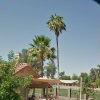Palm tree: (27, 12, 68, 76)
